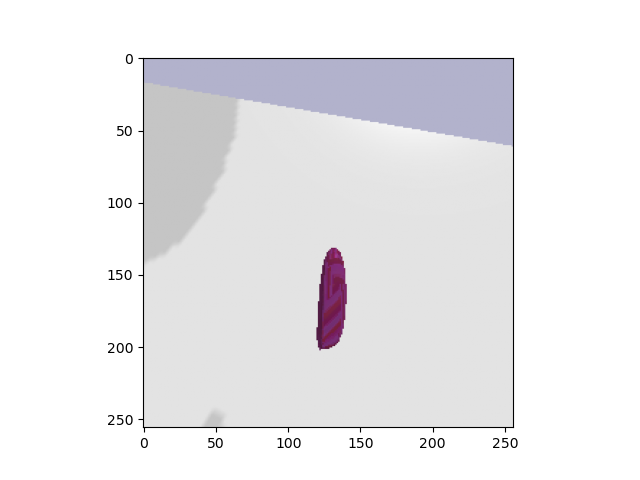v249b387_105: (312, 243, 357, 356)
